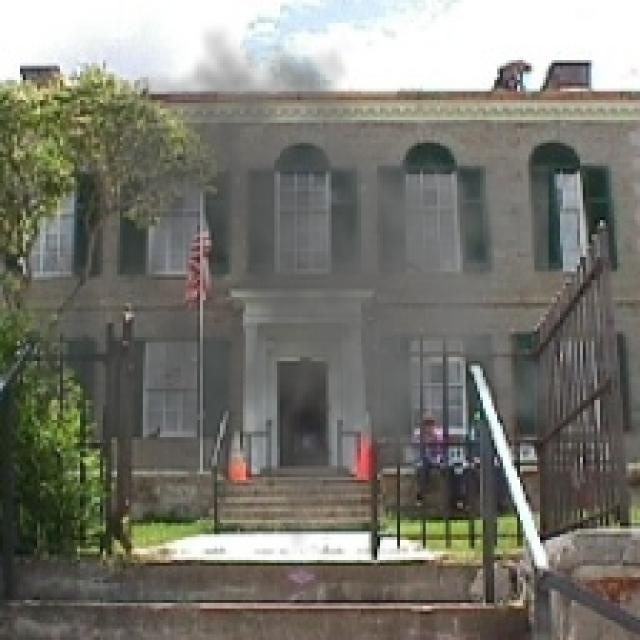smoke: (23, 23, 548, 574)
